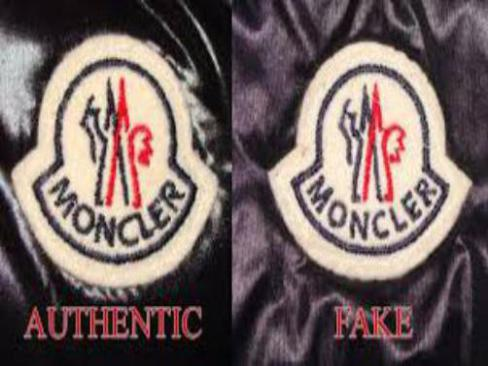MONCLER: (76, 73, 157, 211), (337, 83, 410, 202)
